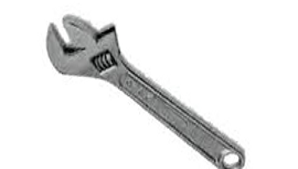wrench: (34, 9, 268, 169)
